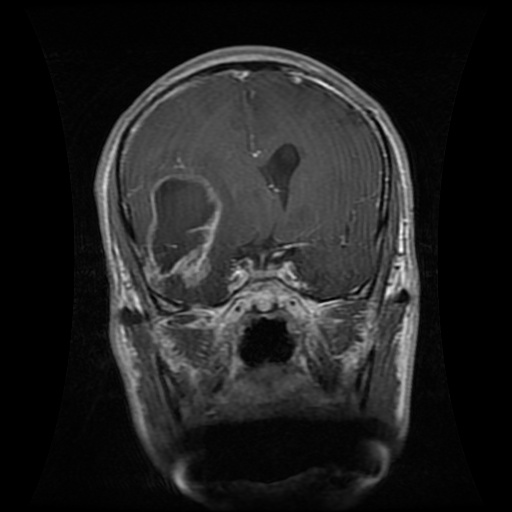glioma: (143, 170, 224, 303)
